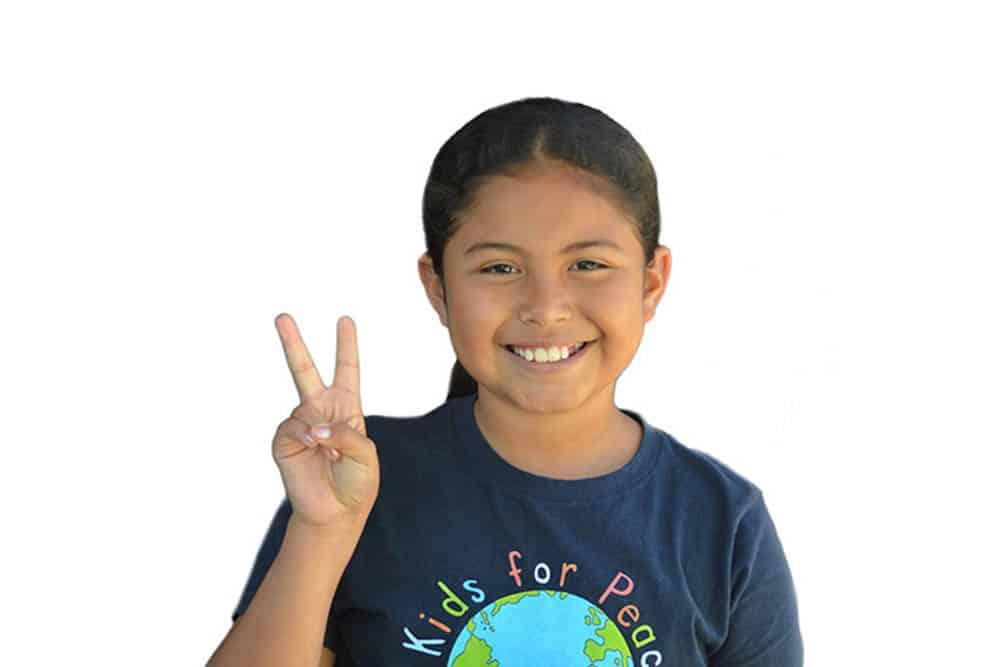peace_sign: (258, 297, 388, 534)
